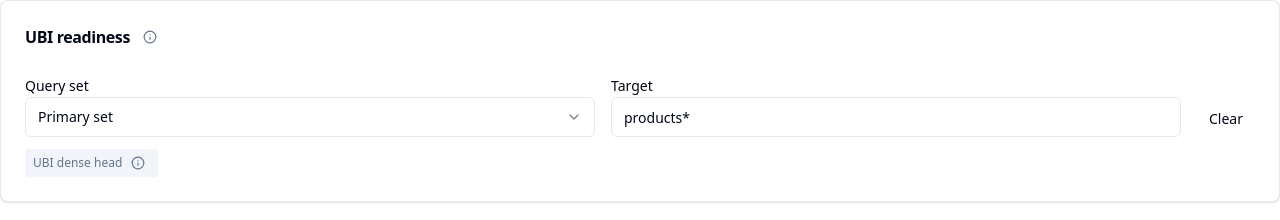
Test: ClusterDetailUbiReadinessCard › AC-8b: clearing the query-set picker via the Clear button hides the badge
The image size is (1280, 220).
Expected: the element with test id "ubi-rung-badge" is shown, [25,149,158,177]
Click the button with test id "cluster-detail-ubi-clear-query-set".
click(1226, 119)  # box [1197,101,1255,137]
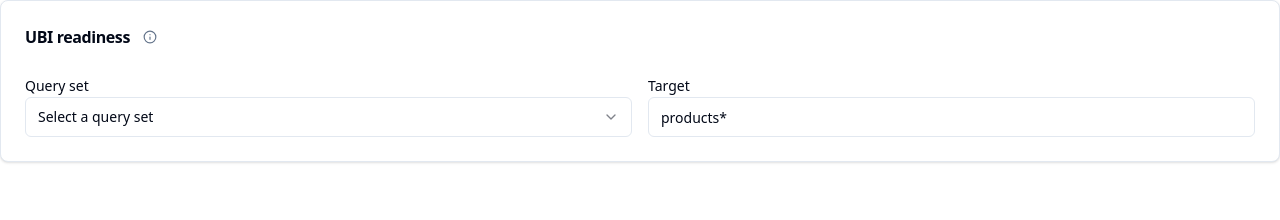
Expected: the element with test id "ubi-rung-badge" is gone
